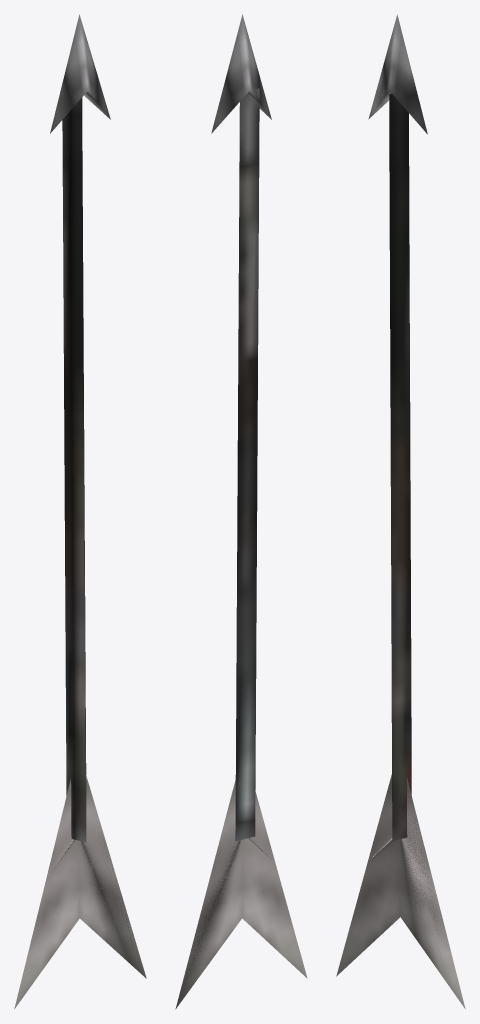
The model's file is gjian.FBX.
3 views of the same model, side by side, from view 1: azimuth 30°, elevation 25°; view 2: azimuth 210°, elevation 25°; view 3: azimuth 330°, elevation 25° (orthographic).
Parts seen in each view (by area): view 1: xiaobin01; view 2: xiaobin01; view 3: xiaobin01.
Boxes of the visible parts, <box> form: xiaobin01: <box>14,14,146,1009</box>; xiaobin01: <box>175,14,307,1009</box>; xiaobin01: <box>336,14,465,1009</box>.
Size of the model in its own units: 0.1389 by 0.9929 by 0.0308.
